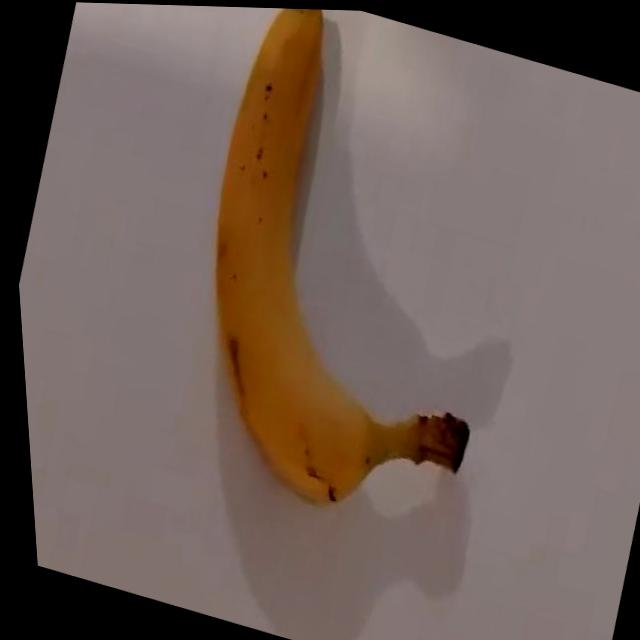Banana: (134, 3, 565, 538)
